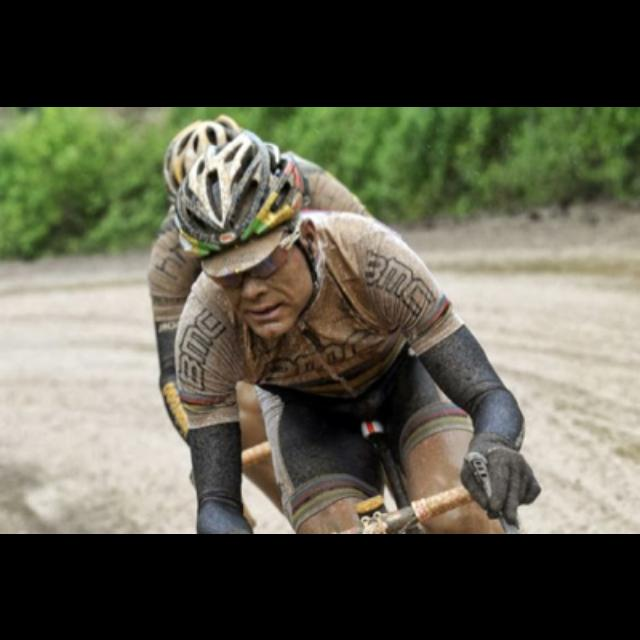With Helmet: (163, 148, 353, 338)
